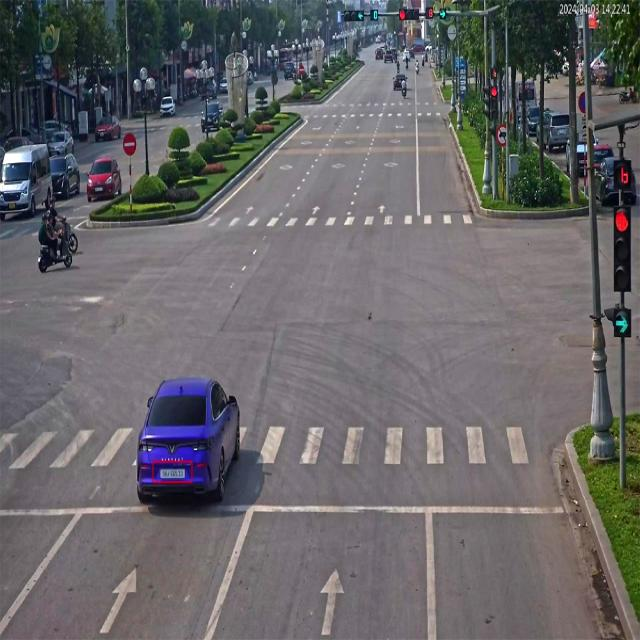Red: (612, 160, 633, 297)
